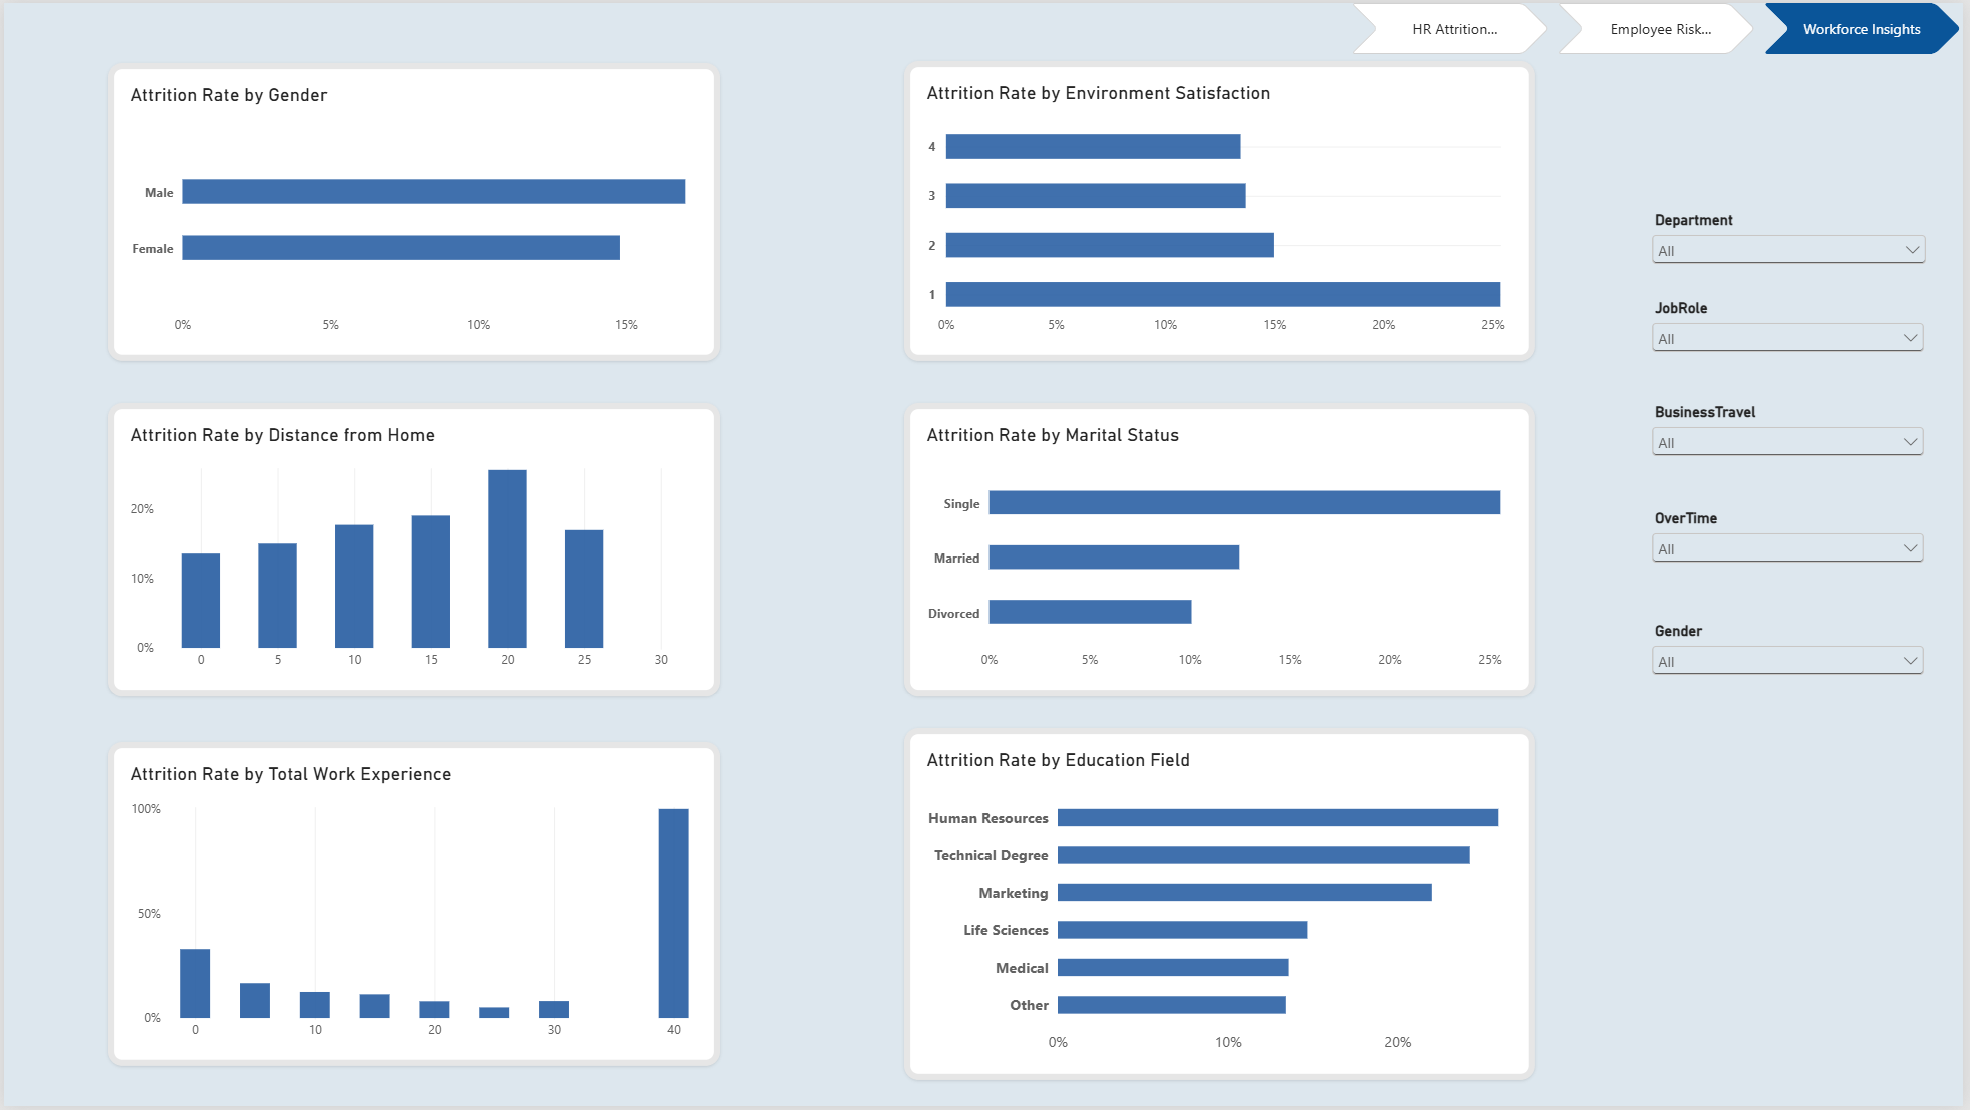

What the dashboard file says about the page in this screenshot:
{"tool":"powerbi","page":{"name":"Workforce Insights","canvas":[1920,1080],"ordinal":2},"visuals":[{"type":"slicer","fields":{"Values":["Employees.Department"]},"box":[1610.6,204.3,278.7,85.1],"z":0},{"type":"slicer","fields":{"Values":["Employees.BusinessTravel"]},"box":[1610.6,391.5,276.6,104.3],"z":1000},{"type":"slicer","fields":{"Values":["Employees.JobRole"]},"box":[1610.6,289.4,276.6,87.2],"z":2000},{"type":"slicer","fields":{"Values":["Employees.Gender"]},"box":[1610.6,606.4,276.6,91.5],"z":3000},{"type":"slicer","fields":{"Values":["Employees.OverTime"]},"box":[1610.6,495.7,276.6,87.2],"z":4000},{"type":"pageNavigator","box":[1319.1,0,600,50],"z":5000},{"type":"clusteredBarChart","title":"Attrition Rate by Gender","fields":{"Category":["Employees.Gender"],"Y":["Employees.Attrition Rate"]},"box":[102,58.8,600,292.2],"z":6000},{"type":"clusteredBarChart","title":"\tAttrition Rate by Marital Status","fields":{"Category":["Employees.MaritalStatus"],"Y":["Employees.Attrition Rate"]},"box":[882.4,392.2,617.6,286.3],"z":7000},{"type":"clusteredBarChart","title":"\tAttrition Rate by Environment Satisfaction","fields":{"Category":["Employees.EnvironmentSatisfaction"],"Y":["Employees.Attrition Rate"]},"box":[882.4,56.9,617.6,294.1],"z":8000},{"type":"clusteredBarChart","title":"\tAttrition Rate by Education Field","fields":{"Category":["Employees.EducationField"],"Y":["Employees.Attrition Rate"]},"box":[882.4,709.8,617.6,345.1],"z":9000},{"type":"clusteredColumnChart","title":"Attrition Rate by Distance from Home","fields":{"Category":["Employees.DistanceFromHome (bins)"],"Y":["Employees.Attrition Rate"]},"box":[102,392.2,600,286.3],"z":10000},{"type":"clusteredColumnChart","title":"Attrition Rate by Total Work Experience","fields":{"Category":["Employees.TotalWorkingYears (bins)"],"Y":["Employees.Attrition Rate"]},"box":[102,723.5,600,317.6],"z":11000}]}

Visuals, with their boxes on the page's 1920x1080 design canvas (x1, y1, x2, y2). These are canvas units, not pixel positions in the 1970x1110 screenshot, which may show the page scaled, cropped or inside an application window:
slicer - Employees.Department: locate(1611, 204, 1889, 289)
slicer - Employees.BusinessTravel: locate(1611, 392, 1887, 496)
slicer - Employees.JobRole: locate(1611, 289, 1887, 377)
slicer - Employees.Gender: locate(1611, 606, 1887, 698)
slicer - Employees.OverTime: locate(1611, 496, 1887, 583)
pageNavigator: locate(1319, 0, 1919, 50)
"Attrition Rate by Gender" clusteredBarChart: locate(102, 59, 702, 351)
"	Attrition Rate by Marital Status" clusteredBarChart: locate(882, 392, 1500, 678)
"	Attrition Rate by Environment Satisfaction" clusteredBarChart: locate(882, 57, 1500, 351)
"	Attrition Rate by Education Field" clusteredBarChart: locate(882, 710, 1500, 1055)
"Attrition Rate by Distance from Home" clusteredColumnChart: locate(102, 392, 702, 678)
"Attrition Rate by Total Work Experience" clusteredColumnChart: locate(102, 724, 702, 1041)
